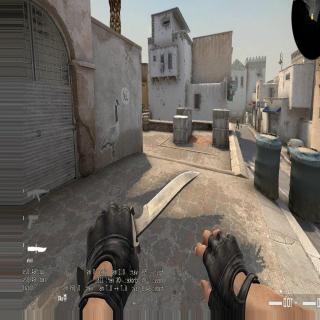CT-Body: (236, 118, 240, 129), (142, 102, 144, 112)
CT-Head: (142, 103, 144, 105), (238, 118, 238, 120)
